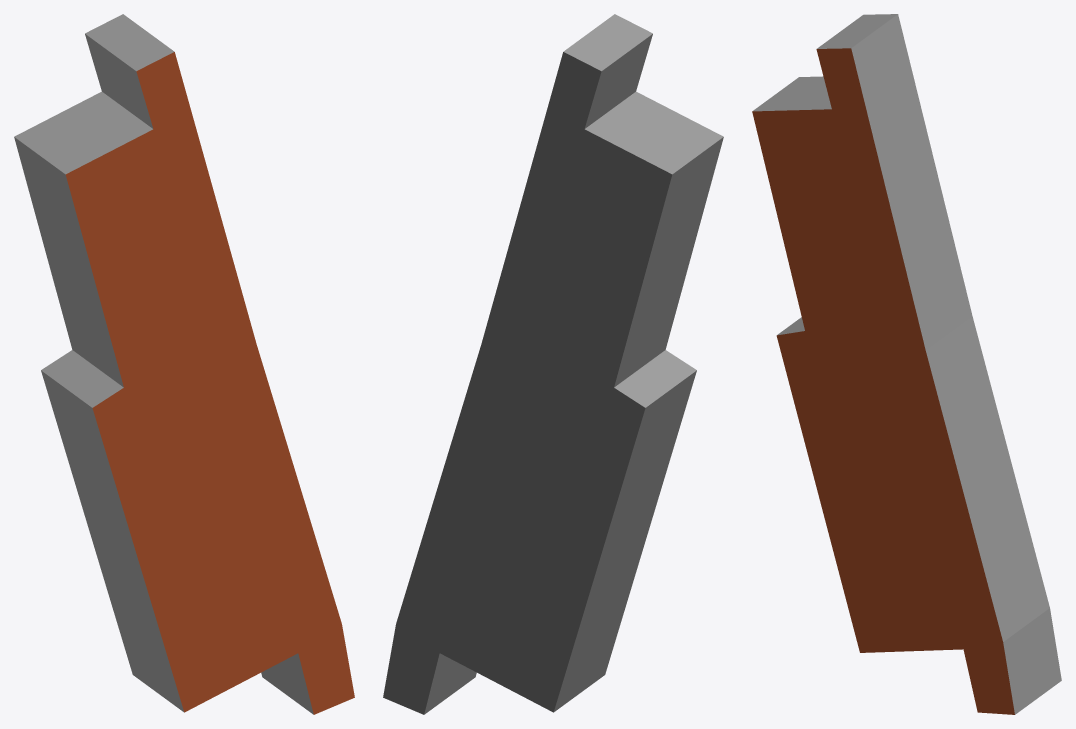
File: construction_4336_assumed_A_Casa_h6m.obj
3 renders of one model, left to right at view 1: azimuth 30°, elevation 25°; view 2: azimuth 150°, elevation 25°; view 3: azimuth 330°, elevation 25°, orthographic. The views are drawn at different scales.
Visible parts, largest first — view 1: construction_4336_assumed_A_Casa; view 2: construction_4336_assumed_A_Casa; view 3: construction_4336_assumed_A_Casa.
Part boxes in pixels (x1,y1,x2,y2): construction_4336_assumed_A_Casa: (14,14,354,714); construction_4336_assumed_A_Casa: (383,14,723,714); construction_4336_assumed_A_Casa: (752,14,1061,714).
Size of the model in its own units: 19.43 by 44.74 by 6.
